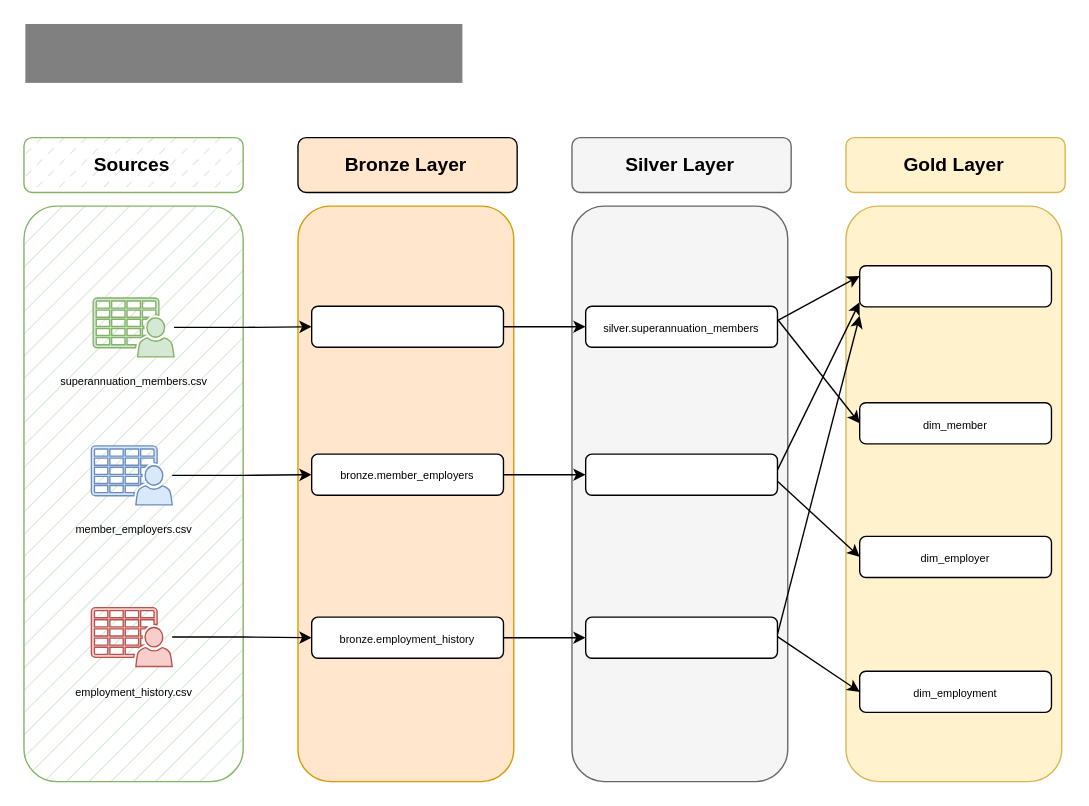
Some shapes in this 1089 by 806 pixel diagram are drawn without their labels. Here are the shapes that lost their labels. From the top down, the box of each, then its label:
(25, 23, 462, 82): Data Warehouse Data Flow
(858, 264, 1051, 307): fact_member_contribution_performance
(310, 305, 503, 347): bronze.superannuation_members
(584, 453, 777, 495): silver.member_employers
(584, 616, 777, 658): silver.employment_history
